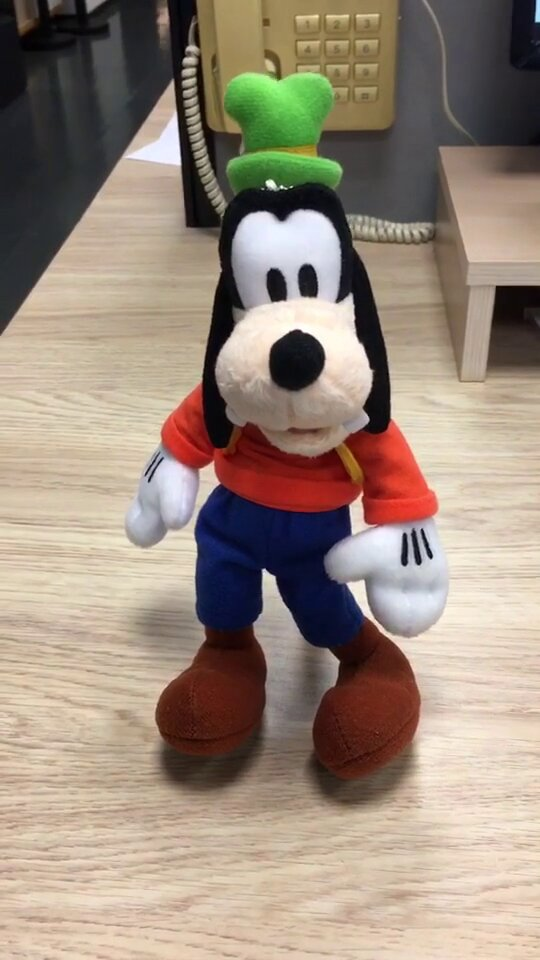goofy: (117, 72, 453, 782)
